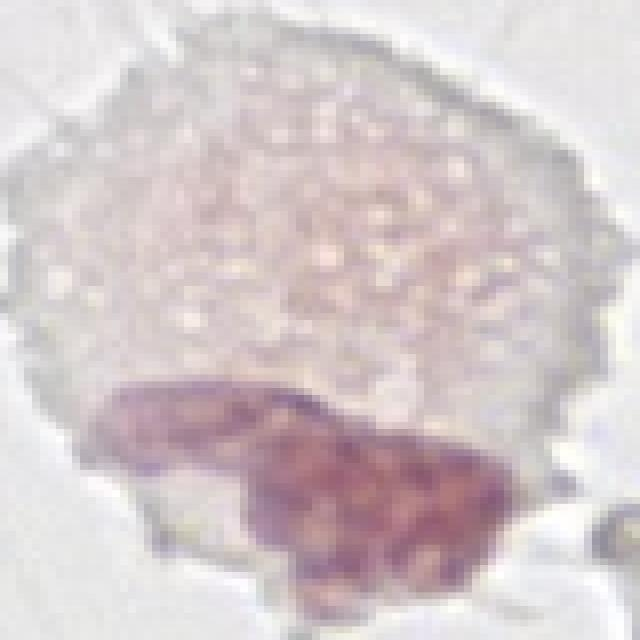nucleus: (228, 404, 515, 637), (87, 352, 372, 516)
